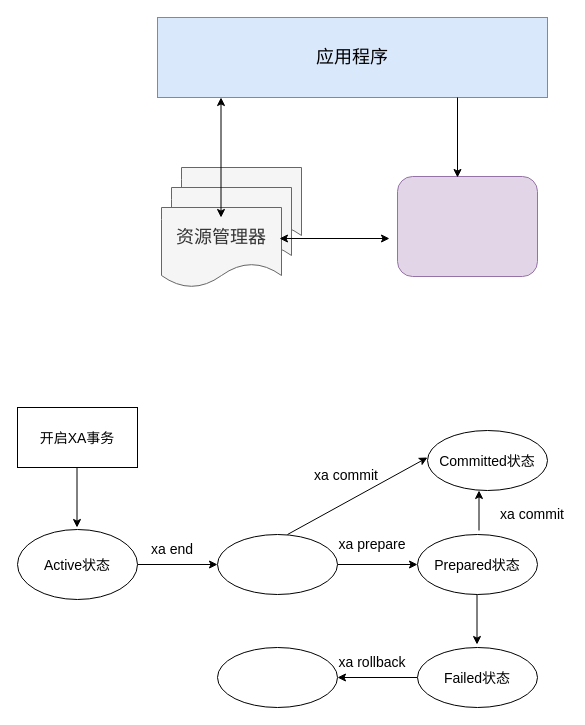
Image size: 585x725. Some labels were removed from this diagram. Here are the shapes that lost their labels. From the top down, the box of each, then its label:
(396, 176, 538, 276): 事务管理器
(216, 534, 338, 594): Idle状态
(216, 646, 338, 708): Aborted状态
